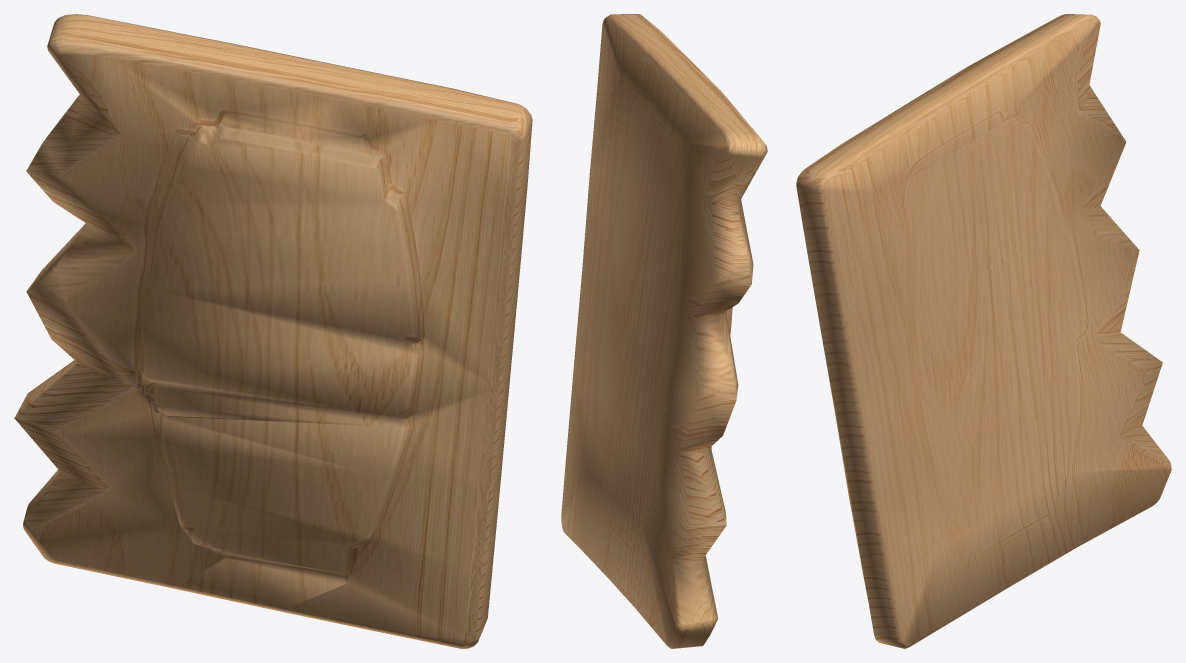
The model's file is fragment-right.glb.
3 views of the same model, side by side, from view 1: azimuth 30°, elevation 25°; view 2: azimuth 150°, elevation 25°; view 3: azimuth 270°, elevation 25° (orthographic). The views are drawn at different scales.
Parts seen in each view (by area): view 1: tripo_node_d9b2652d-b743-4f67-8283-56d37103987f; view 2: tripo_node_d9b2652d-b743-4f67-8283-56d37103987f; view 3: tripo_node_d9b2652d-b743-4f67-8283-56d37103987f.
Boxes of the visible parts, left/top/right/bottom form: tripo_node_d9b2652d-b743-4f67-8283-56d37103987f: left=14, top=14, right=532, bottom=648; tripo_node_d9b2652d-b743-4f67-8283-56d37103987f: left=561, top=14, right=767, bottom=648; tripo_node_d9b2652d-b743-4f67-8283-56d37103987f: left=796, top=14, right=1171, bottom=648.
Size of the model in its own units: 0.5776 by 0.9995 by 0.6577.
1 material, 1 textured.
